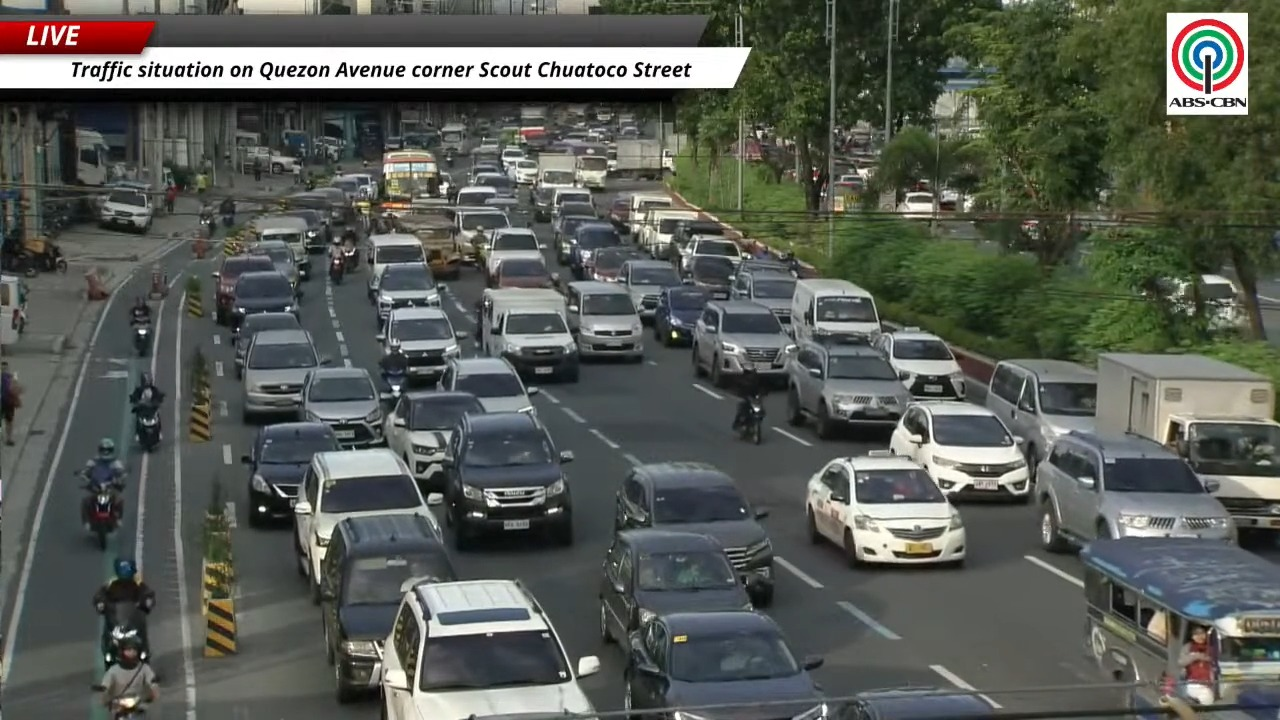bus: (380, 150, 439, 209)
car: (381, 579, 598, 719), (321, 515, 457, 702), (1034, 431, 1236, 552), (293, 449, 442, 603), (614, 462, 773, 606), (623, 610, 826, 719), (805, 450, 965, 566), (442, 412, 572, 549), (599, 530, 752, 642), (890, 401, 1030, 502), (786, 338, 911, 438), (985, 359, 1096, 465), (241, 422, 340, 526), (384, 391, 484, 493), (692, 300, 796, 386), (241, 330, 329, 423), (873, 327, 965, 399), (376, 307, 465, 380), (302, 367, 383, 447), (565, 281, 643, 361), (438, 357, 538, 412), (832, 687, 991, 719), (233, 312, 300, 379), (212, 256, 274, 325), (376, 263, 444, 325), (230, 270, 300, 330), (248, 213, 310, 279), (731, 266, 796, 328), (618, 260, 683, 320), (561, 221, 622, 279), (652, 287, 709, 346), (454, 207, 511, 260), (483, 227, 542, 276), (246, 240, 300, 286), (99, 188, 153, 233), (279, 208, 331, 253), (552, 215, 599, 264), (680, 235, 742, 272), (684, 255, 735, 299), (489, 257, 558, 288), (589, 245, 646, 282), (308, 187, 353, 226), (672, 219, 725, 247), (552, 187, 596, 215), (737, 257, 793, 276), (897, 193, 937, 219), (474, 172, 514, 196), (454, 185, 497, 206), (607, 195, 629, 232), (468, 159, 501, 183), (508, 159, 537, 184), (559, 200, 599, 218), (500, 147, 526, 169)
motorcycle: (97, 598, 152, 667), (83, 467, 119, 550), (133, 402, 161, 452), (736, 397, 764, 444), (109, 693, 145, 719), (110, 695, 144, 719), (383, 372, 406, 403), (132, 322, 151, 356), (329, 255, 346, 285), (342, 245, 357, 273), (200, 213, 216, 236), (222, 213, 234, 228)
truck: (1095, 353, 1279, 530), (479, 288, 579, 381), (531, 153, 576, 221), (611, 139, 664, 179), (75, 127, 110, 186), (237, 146, 297, 174), (520, 105, 547, 125)
